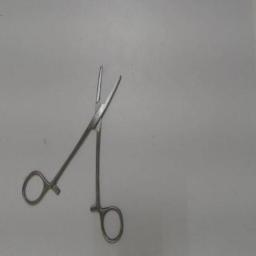Mayo Needle Holder: (17, 52, 137, 248)
